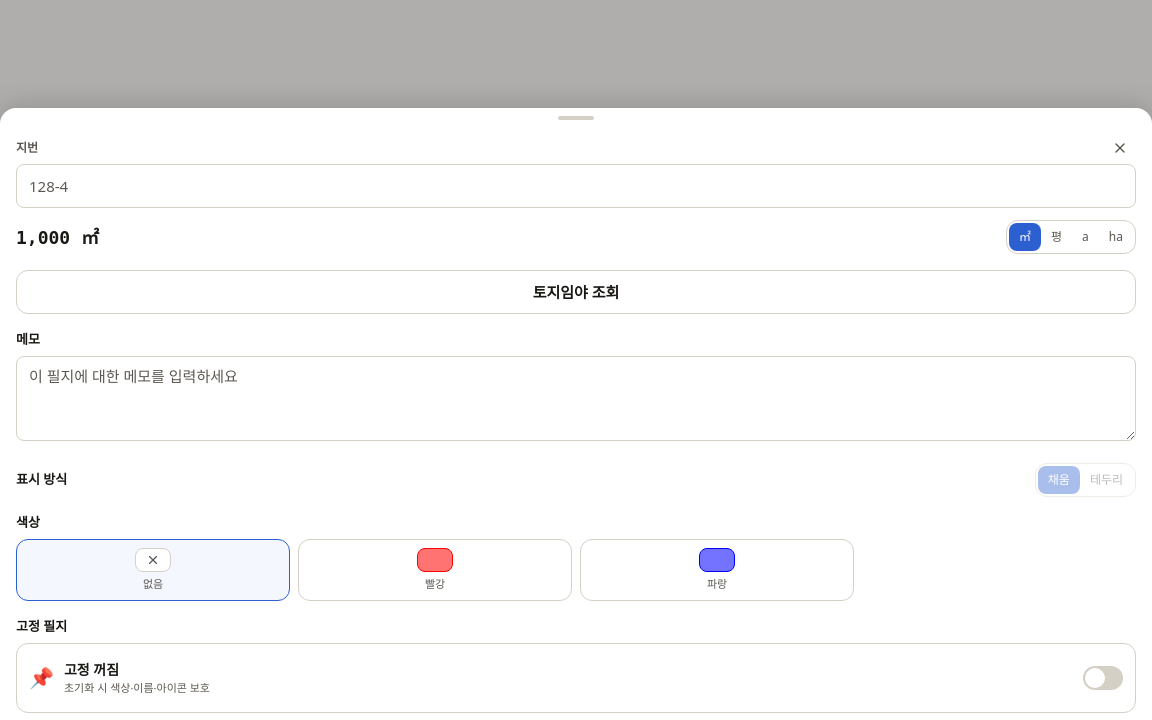
Test case: AC-7: 면적 단위 토글은 즉시 전역 반영 › "평" 선택 시 저장 버튼 없이 표기가 즉시 바뀌고 localStorage에 영속된다
Expected: the text "1,000 ㎡" is shown, [16,226,99,248]
Click the button "평" at (1057, 237), box [1041,223,1072,251]
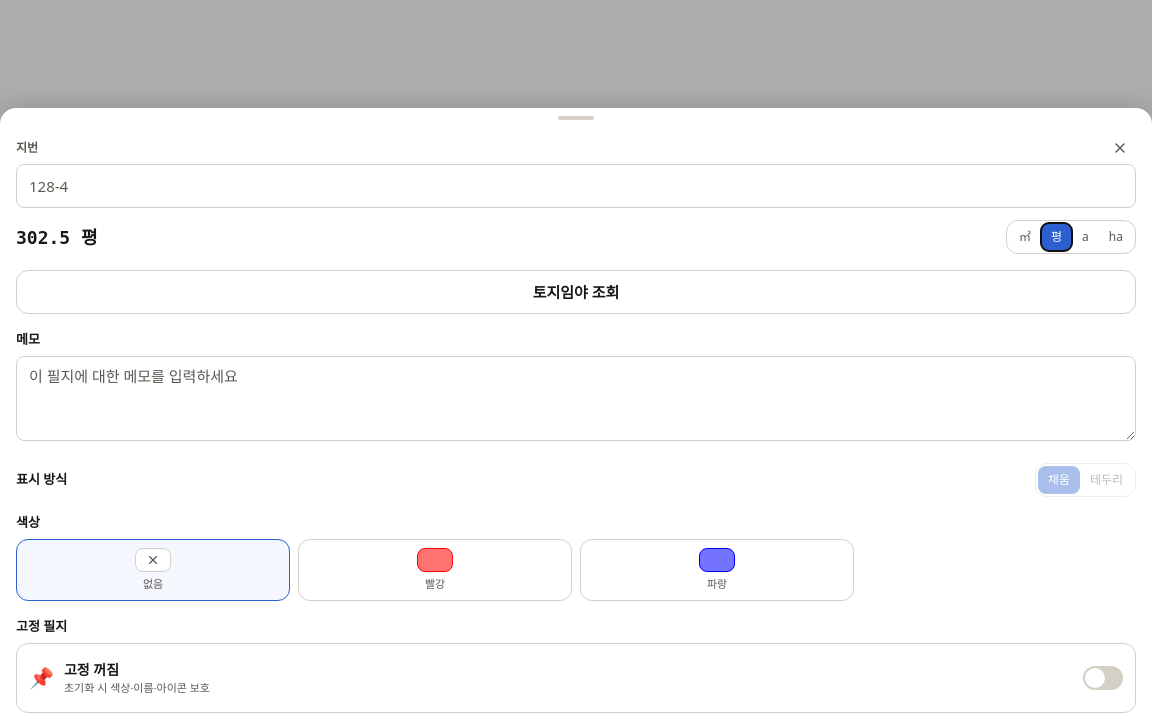
Expected: the text "302.5 평" is shown, [16,226,98,248]
Expected: the text "1,000 ㎡" is gone
